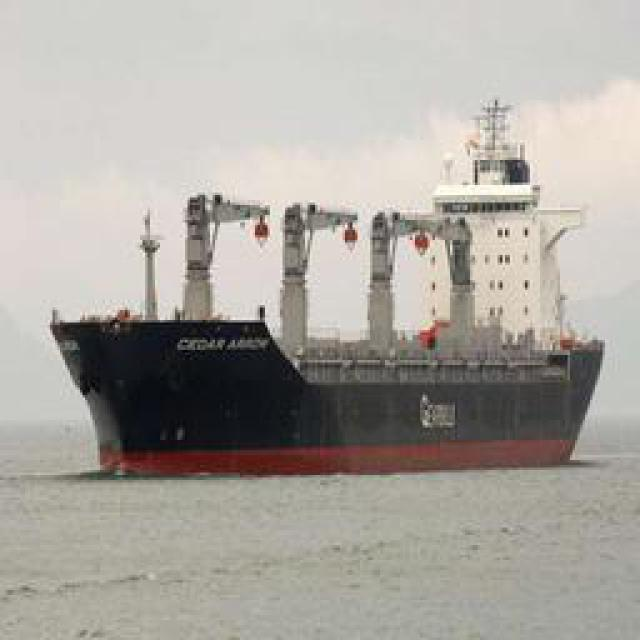Ship: (45, 93, 605, 485)
